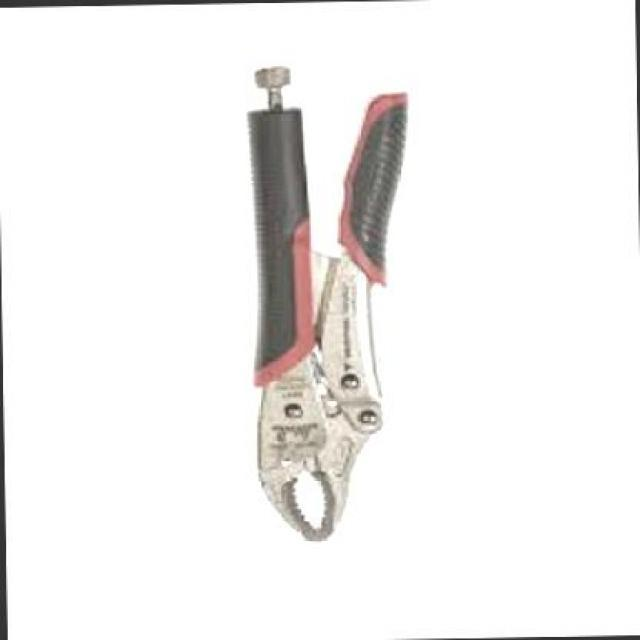pliers: (203, 51, 442, 556)
